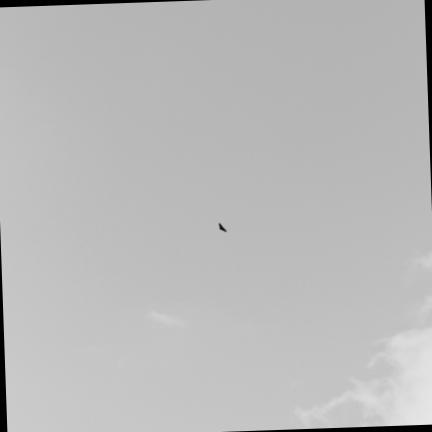Shahed: (220, 223, 227, 231)
